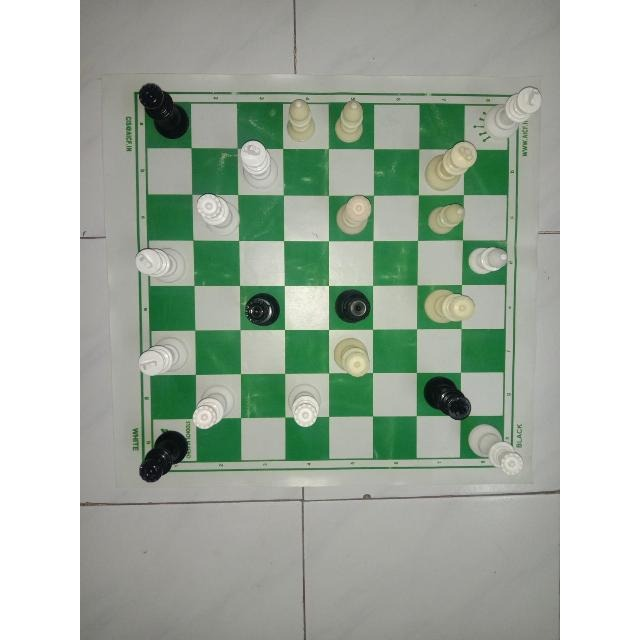black-king: (329, 287, 375, 326)
black-queen: (135, 79, 195, 141), (140, 425, 192, 483), (421, 373, 475, 420), (238, 290, 280, 332)
white-bishop: (333, 93, 373, 146), (279, 96, 318, 146), (423, 199, 469, 238), (465, 241, 513, 276)
white-king: (483, 86, 545, 142), (424, 141, 480, 191), (134, 242, 191, 288), (136, 330, 192, 375), (238, 137, 282, 192)
white-queen: (465, 420, 525, 476), (194, 191, 246, 239), (190, 381, 238, 433), (420, 284, 477, 326), (331, 190, 376, 242), (330, 333, 376, 381), (284, 381, 326, 429)
